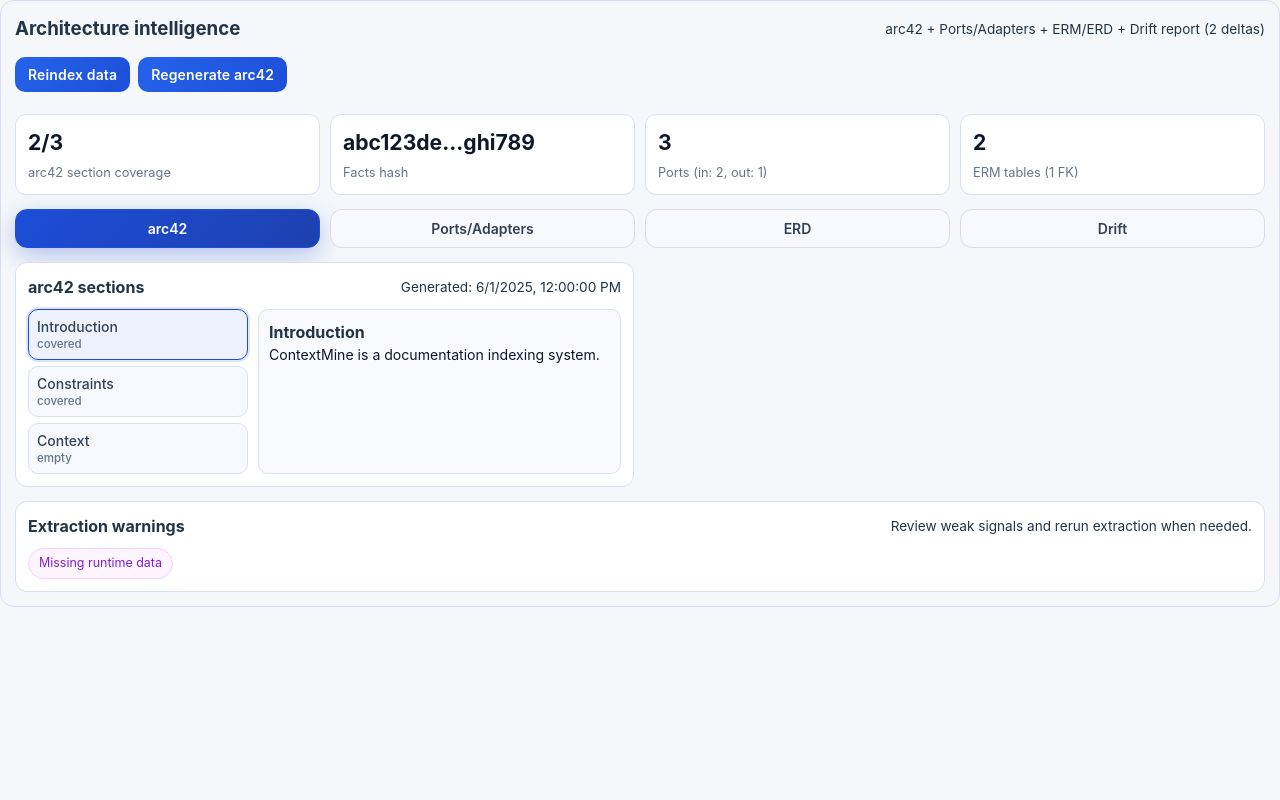
ArchitectureView rendering › renders ports/adapters when ports tab is clicked
Click the tab "Ports/Adapters": point(482, 228) 330,209 -> 635,248
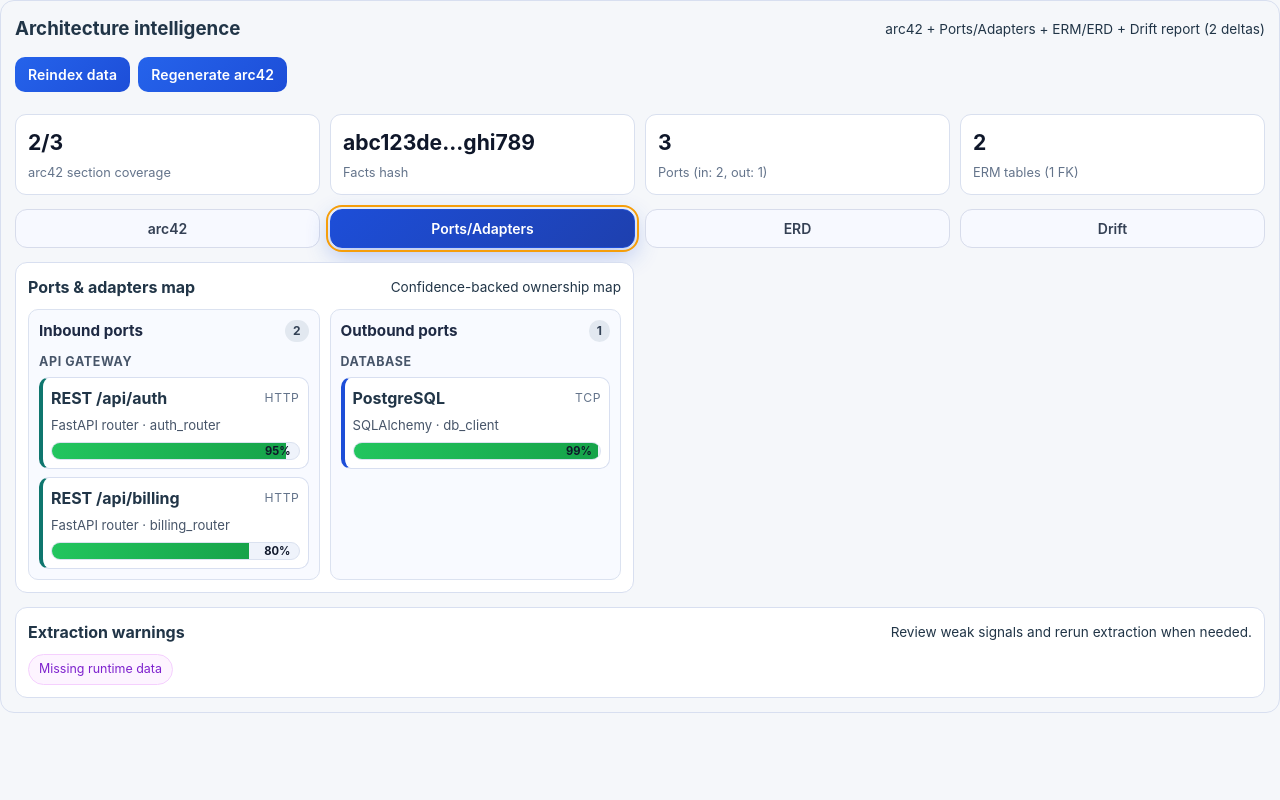
Expected: the heading "Ports & adapters map" is shown, 28,275 -> 195,299
Expected: the heading "Inbound ports" is shown, 39,320 -> 143,343
Expected: the heading "Outbound ports" is shown, 340,320 -> 458,343
